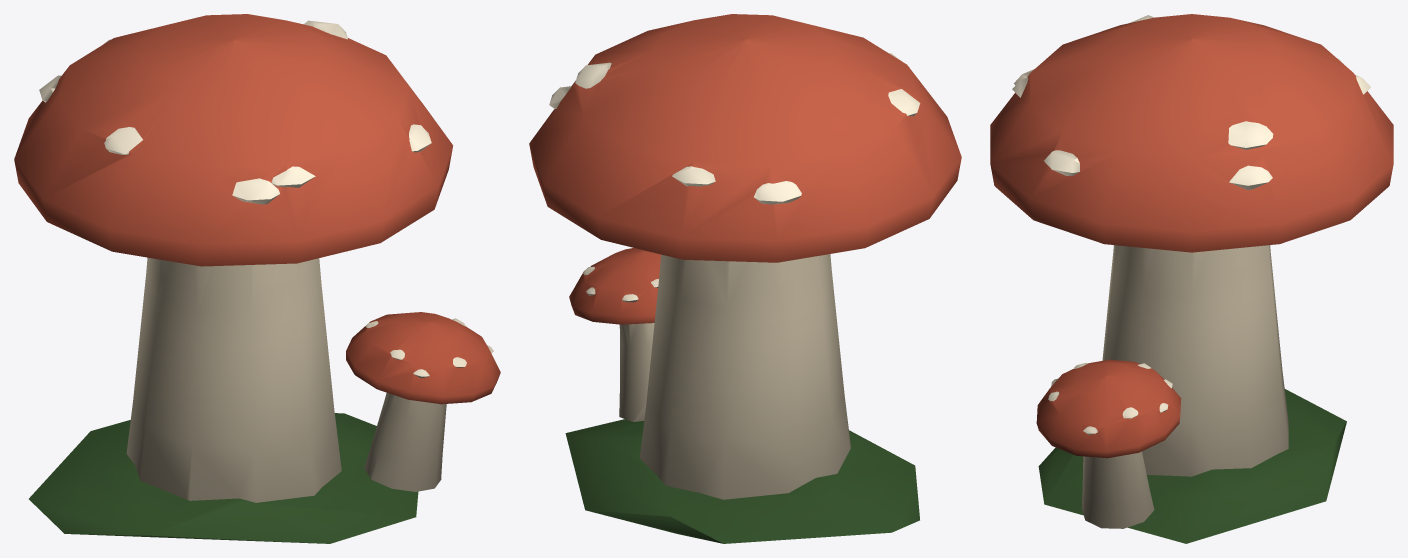
Rendered from toadstool.glb.
3 renders of one model, left to right at view 1: azimuth 30°, elevation 25°; view 2: azimuth 150°, elevation 25°; view 3: azimuth 270°, elevation 25°, orthographic. The views are drawn at different scales.
Parts seen in each view (by area): view 1: Item; view 2: Item; view 3: Item.
Boxes of the visible parts, <box> form: Item: <box>14,14,500,543</box>; Item: <box>529,14,961,543</box>; Item: <box>990,14,1393,543</box>.
Bounding box in the file's own units: 1.18 × 1.26 × 1.09.
3 materials, 3 textured.
